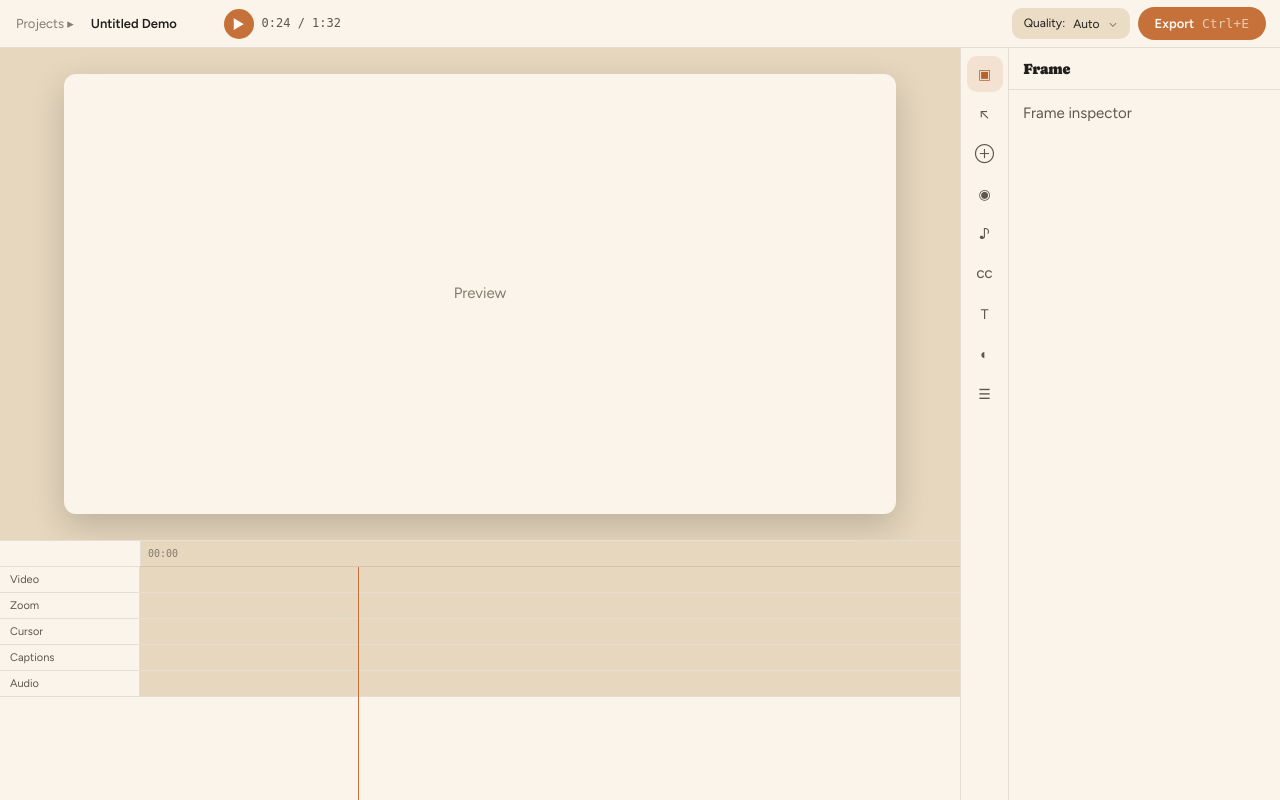
Test case: EditorShell › switches the active tab when a tab is clicked (heading changes)
Check: the heading reads "Frame", box [1023, 60, 1070, 76]
Click the tab with aria-label "Captions" at (984, 274), box [966, 256, 1002, 292]
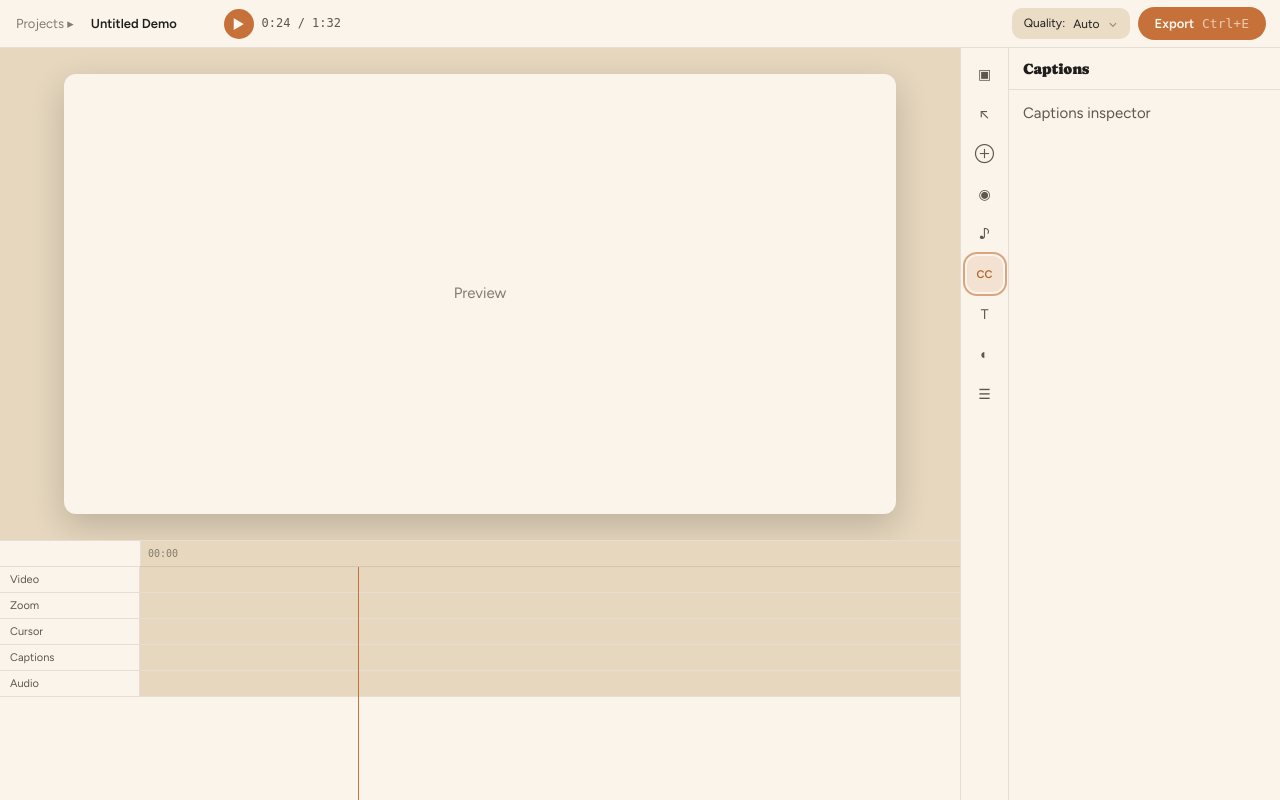
Check: the heading reads "Captions", box [1023, 60, 1089, 76]
Click the tab named "Zoom" at (984, 154), box [966, 136, 1002, 172]
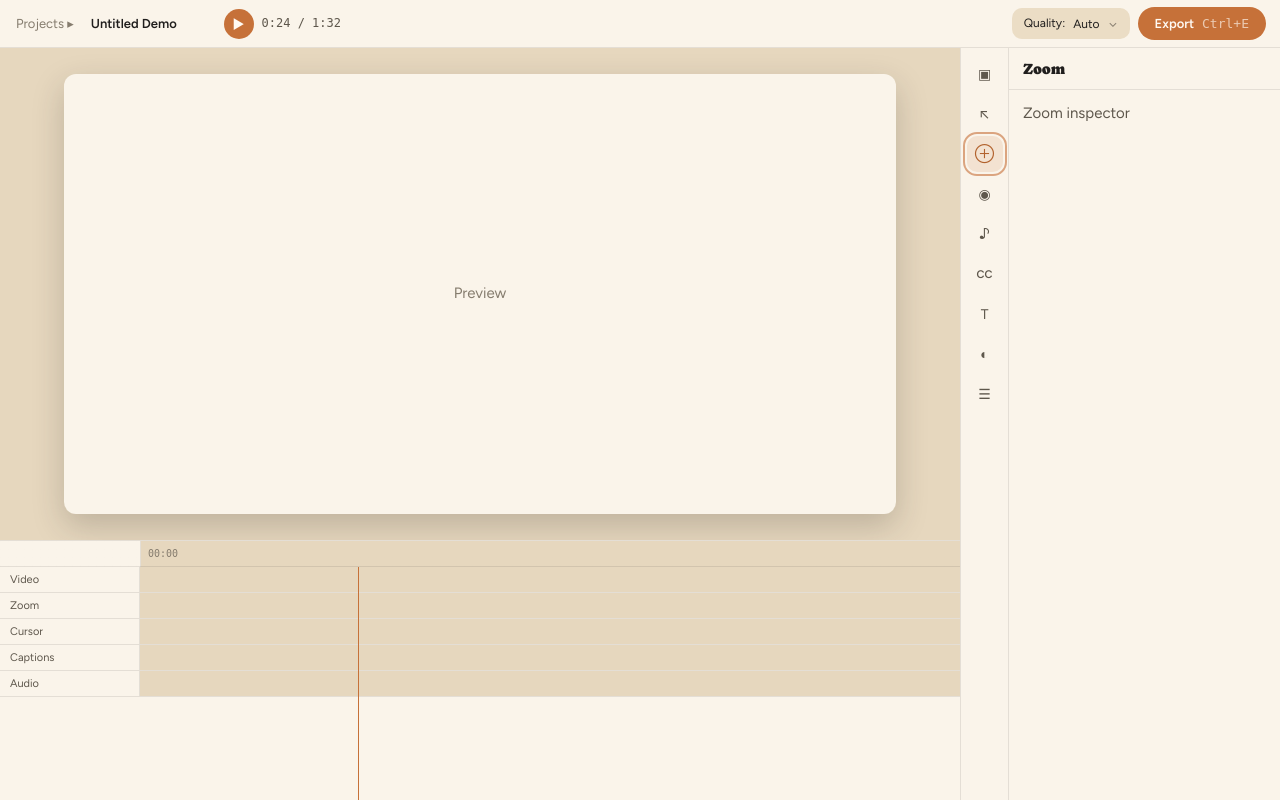
Check: the heading reads "Zoom", box [1023, 60, 1065, 76]
